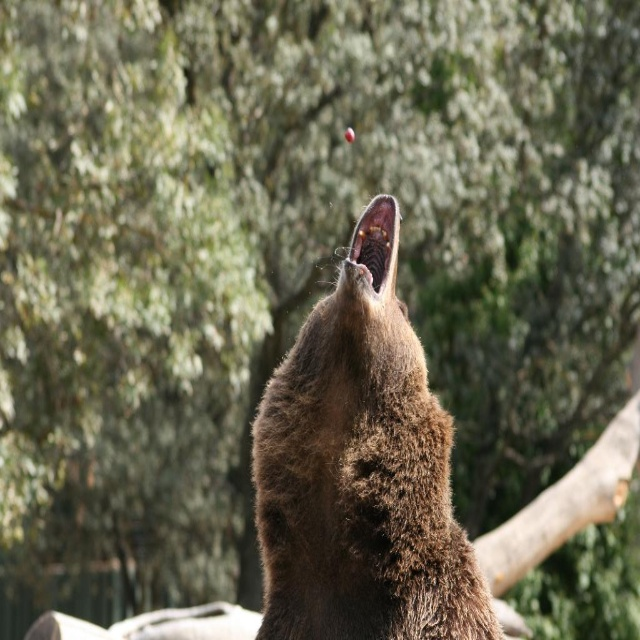Brown bear: (244, 187, 505, 639)
